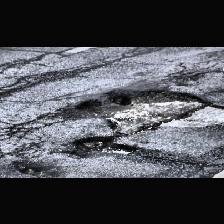pothole: (73, 86, 210, 134), (69, 134, 136, 154), (12, 160, 64, 176)
